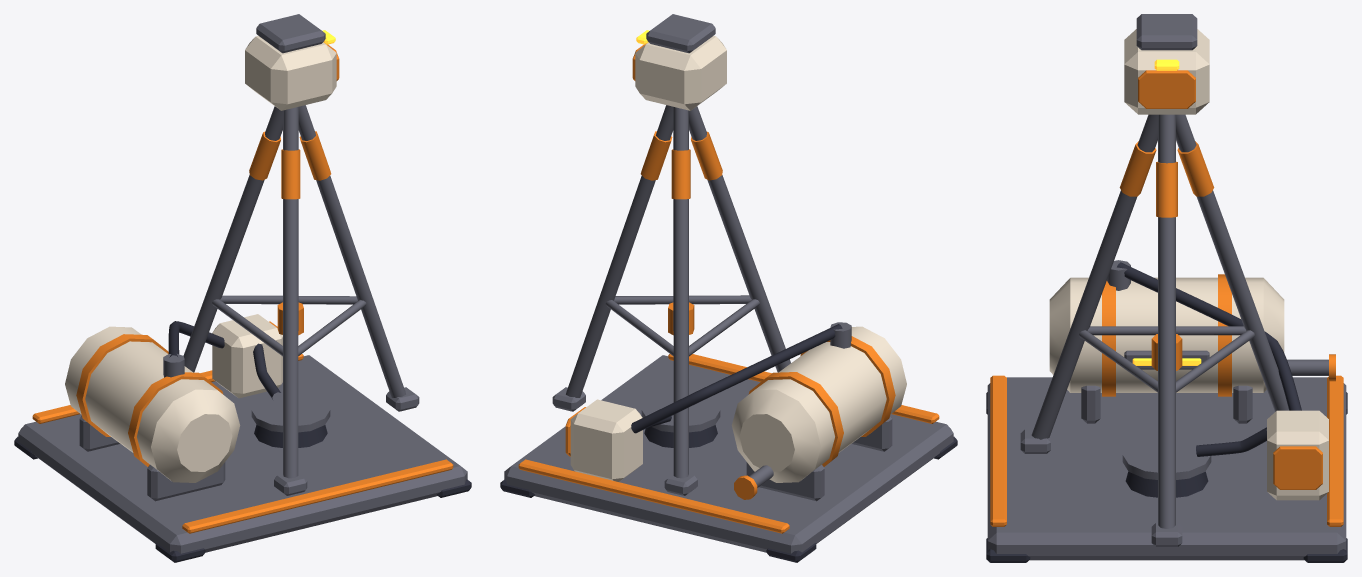
Rendered from ice-drill.glb.
3 renders of one model, left to right at view 1: azimuth 30°, elevation 25°; view 2: azimuth 150°, elevation 25°; view 3: azimuth 270°, elevation 25°, orthographic. The views are drawn at different scales.
Visible parts, largest first — view 1: ice-drill_smooth-structure_structure-gray, ice-drill_smooth-structure, derrick_smooth-structure_structure-gray, ice-drill_accent-paint, ice-drill_dark-trim, derrick_accent-paint; view 2: ice-drill_smooth-structure_structure-gray, ice-drill_smooth-structure, derrick_smooth-structure_structure-gray, ice-drill_accent-paint, ice-drill_dark-trim, derrick_accent-paint; view 3: ice-drill_smooth-structure_structure-gray, derrick_smooth-structure_structure-gray, ice-drill_smooth-structure, ice-drill_accent-paint, ice-drill_dark-trim, derrick_accent-paint, Water outlet pipe, ice-drill_emissive-warm.
Part boxes in pixels (x1,y1,x2,y2): ice-drill_smooth-structure_structure-gray: (18,14,467,553); ice-drill_smooth-structure: (65,35,336,482); derrick_smooth-structure_structure-gray: (183,105,419,495); ice-drill_accent-paint: (32,43,453,533); ice-drill_dark-trim: (14,321,471,562); derrick_accent-paint: (249,131,331,199); ice-drill_smooth-structure_structure-gray: (504,14,953,553); ice-drill_smooth-structure: (570,35,906,482); derrick_smooth-structure_structure-gray: (552,105,790,495); ice-drill_accent-paint: (518,43,939,533); ice-drill_dark-trim: (500,324,957,562); derrick_accent-paint: (640,131,722,199); ice-drill_smooth-structure_structure-gray: (987,14,1346,560); derrick_smooth-structure_structure-gray: (1020,114,1288,546); ice-drill_smooth-structure: (1049,29,1328,500); ice-drill_accent-paint: (990,70,1343,526); ice-drill_dark-trim: (986,262,1347,562); derrick_accent-paint: (1119,141,1214,217); Water outlet pipe: (1287,359,1328,375); ice-drill_emissive-warm: (1132,59,1201,365).
Size of the model in its own units: 3.02 by 3.87 by 2.62.
